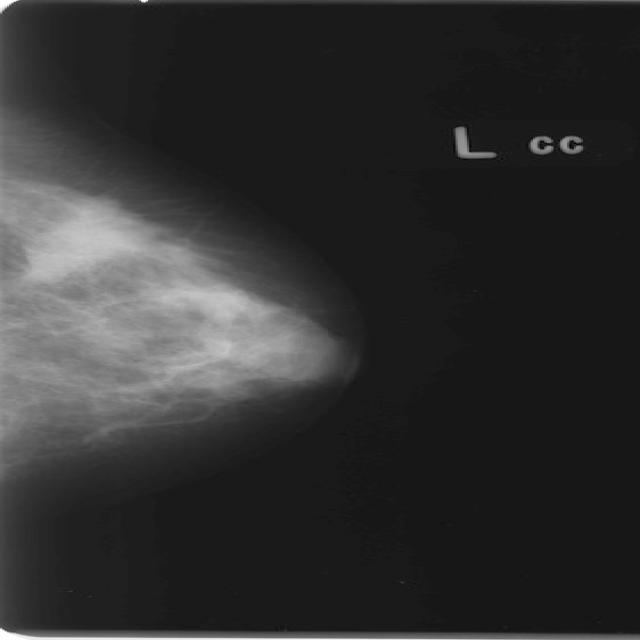tumour: (20, 198, 146, 278)
